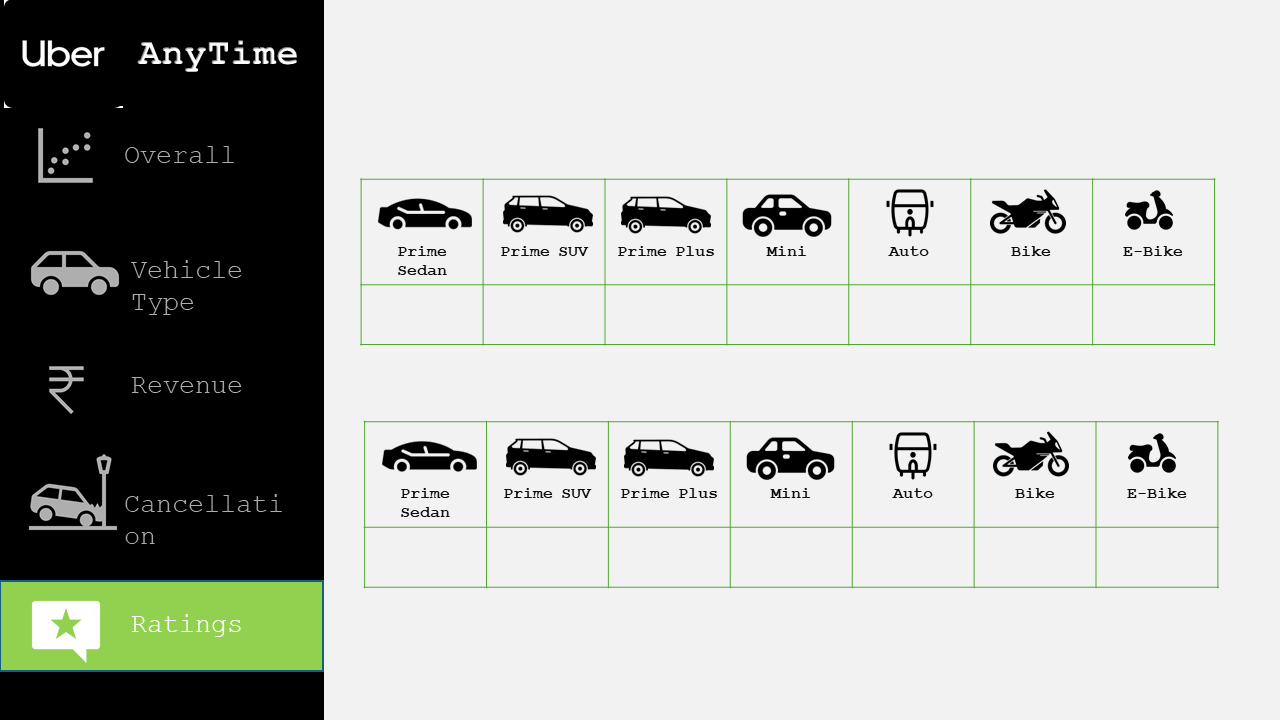

Layout of this report page (visuals, bound fields, positions):
{"tool":"powerbi","page":{"name":"Rating","canvas":[1280,720],"ordinal":4},"visuals":[{"type":"actionButton","box":[0,104.1,321,94],"z":0},{"type":"card","fields":{"Values":["Avg(Bookings xlsx - July.Driver_Ratings)"]},"box":[360.2,282.5,121.8,58.3],"z":1000},{"type":"card","fields":{"Values":["Avg(Bookings xlsx - July.Driver_Ratings)"]},"box":[482,282.5,121.8,58.3],"z":1001},{"type":"card","fields":{"Values":["Avg(Bookings xlsx - July.Driver_Ratings)"]},"box":[603.8,282.5,121.8,58.3],"z":1002},{"type":"card","fields":{"Values":["Max(Bookings xlsx - July.Driver_Ratings)"]},"box":[725.6,282.5,121.8,58.3],"z":1003},{"type":"card","fields":{"Values":["Min(Bookings xlsx - July.Driver_Ratings)"]},"box":[847.4,282.5,121.8,58.3],"z":1004},{"type":"card","fields":{"Values":["Avg(Bookings xlsx - July.Driver_Ratings)"]},"box":[969.3,282.5,121.8,58.3],"z":1005},{"type":"card","fields":{"Values":["Max(Bookings xlsx - July.Driver_Ratings)"]},"box":[1091.1,282.5,121.8,58.3],"z":1006},{"type":"card","fields":{"Values":["Median(Bookings xlsx - July.Customer_Rating)"]},"box":[360.2,527.9,121.8,58.3],"z":1007},{"type":"card","fields":{"Values":["Avg(Bookings xlsx - July.Customer_Rating)"]},"box":[482,527.9,121.8,58.3],"z":1008},{"type":"card","fields":{"Values":["Max(Bookings xlsx - July.Customer_Rating)"]},"box":[603.8,527.9,121.8,58.3],"z":1009},{"type":"card","fields":{"Values":["Avg(Bookings xlsx - July.Customer_Rating)"]},"box":[725.6,527.9,121.8,58.3],"z":1010},{"type":"card","fields":{"Values":["Median(Bookings xlsx - July.Customer_Rating)"]},"box":[847.4,527.9,121.8,60],"z":1011},{"type":"card","fields":{"Values":["Median(Bookings xlsx - July.Customer_Rating)"]},"box":[969.3,527.9,121.8,58.3],"z":1012},{"type":"card","fields":{"Values":["Median(Bookings xlsx - July.Customer_Rating)"]},"box":[1091.1,527.9,121.8,58.3],"z":1013},{"type":"textbox","box":[360.2,104.2,211.9,61.8],"z":1014},{"type":"textbox","box":[360.2,360.2,243.6,56.5],"z":1015}]}

Visuals, with their boxes on the page's 1280x720 design canvas (x1, y1, x2, y2). These are canvas units, not pixel positions in the 1280x720 screenshot, which may show the page scaled, cropped or inside an application window:
actionButton: rect(0, 104, 321, 198)
card - Avg(Bookings xlsx - July.Driver_Ratings): rect(360, 282, 482, 341)
card - Avg(Bookings xlsx - July.Driver_Ratings): rect(482, 282, 604, 341)
card - Avg(Bookings xlsx - July.Driver_Ratings): rect(604, 282, 726, 341)
card - Max(Bookings xlsx - July.Driver_Ratings): rect(726, 282, 847, 341)
card - Min(Bookings xlsx - July.Driver_Ratings): rect(847, 282, 969, 341)
card - Avg(Bookings xlsx - July.Driver_Ratings): rect(969, 282, 1091, 341)
card - Max(Bookings xlsx - July.Driver_Ratings): rect(1091, 282, 1213, 341)
card - Median(Bookings xlsx - July.Customer_Rating): rect(360, 528, 482, 586)
card - Avg(Bookings xlsx - July.Customer_Rating): rect(482, 528, 604, 586)
card - Max(Bookings xlsx - July.Customer_Rating): rect(604, 528, 726, 586)
card - Avg(Bookings xlsx - July.Customer_Rating): rect(726, 528, 847, 586)
card - Median(Bookings xlsx - July.Customer_Rating): rect(847, 528, 969, 588)
card - Median(Bookings xlsx - July.Customer_Rating): rect(969, 528, 1091, 586)
card - Median(Bookings xlsx - July.Customer_Rating): rect(1091, 528, 1213, 586)
textbox: rect(360, 104, 572, 166)
textbox: rect(360, 360, 604, 417)
